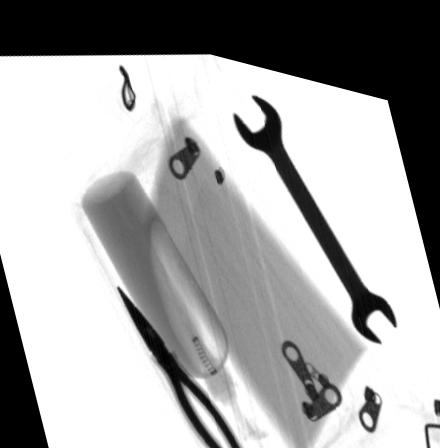Pliers: (117, 279, 246, 448)
Wrench: (235, 80, 398, 325)
